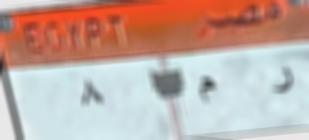8: (76, 74, 106, 114)
meem: (196, 71, 218, 109)
raa: (268, 63, 295, 99)
